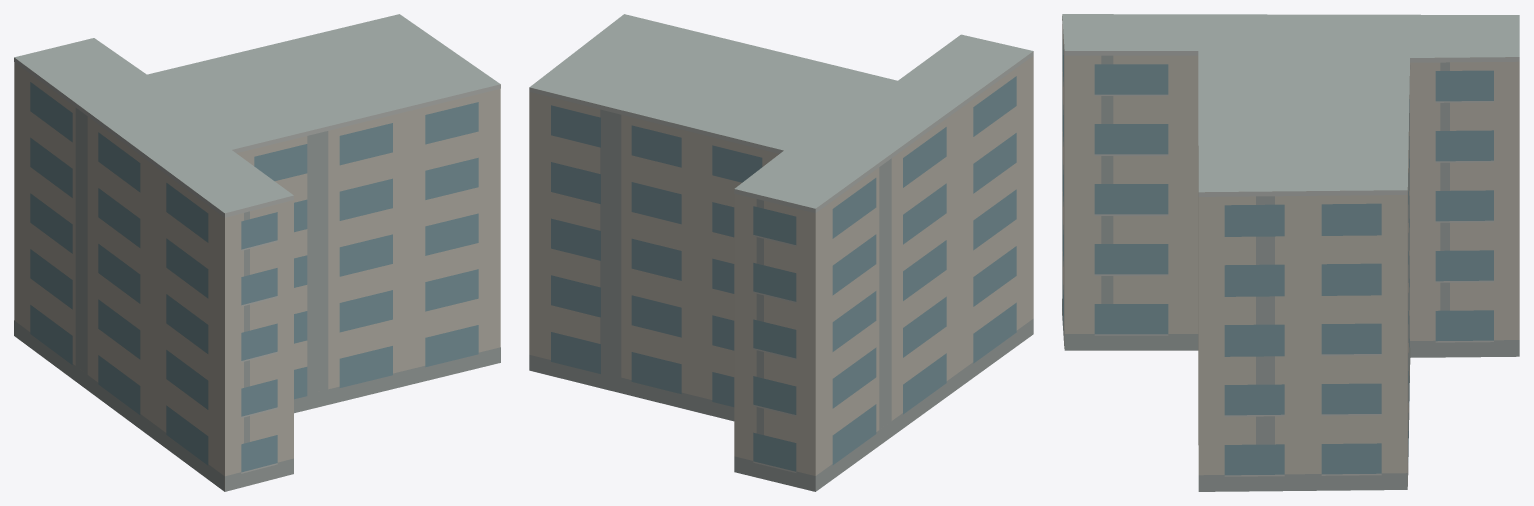
Rendered from survey-upis-32952263.glb.
3 renders of one model, left to right at view 1: azimuth 30°, elevation 25°; view 2: azimuth 150°, elevation 25°; view 3: azimuth 270°, elevation 25°, orthographic. The views are drawn at different scales.
Parts seen in each view (by area): view 1: survey-upis-32952263.tmp; view 2: survey-upis-32952263.tmp; view 3: survey-upis-32952263.tmp.
Boxes of the visible parts, box(x1,y1,x2,y2) form: survey-upis-32952263.tmp: box(14, 14, 500, 491); survey-upis-32952263.tmp: box(529, 14, 1033, 491); survey-upis-32952263.tmp: box(1062, 14, 1519, 491).
Bounding box in the file's own units: 19.45 × 15.25 × 21.12.
